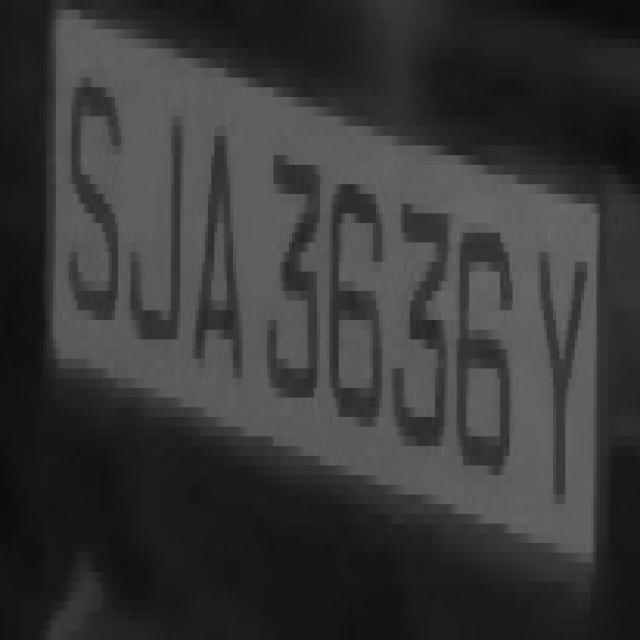3: (255, 88, 323, 436), (388, 136, 451, 475)
6: (450, 174, 516, 514), (329, 116, 392, 456)
A: (183, 58, 255, 456)
J: (140, 58, 189, 378)
S: (46, 29, 128, 369)
Y: (525, 203, 590, 484)
